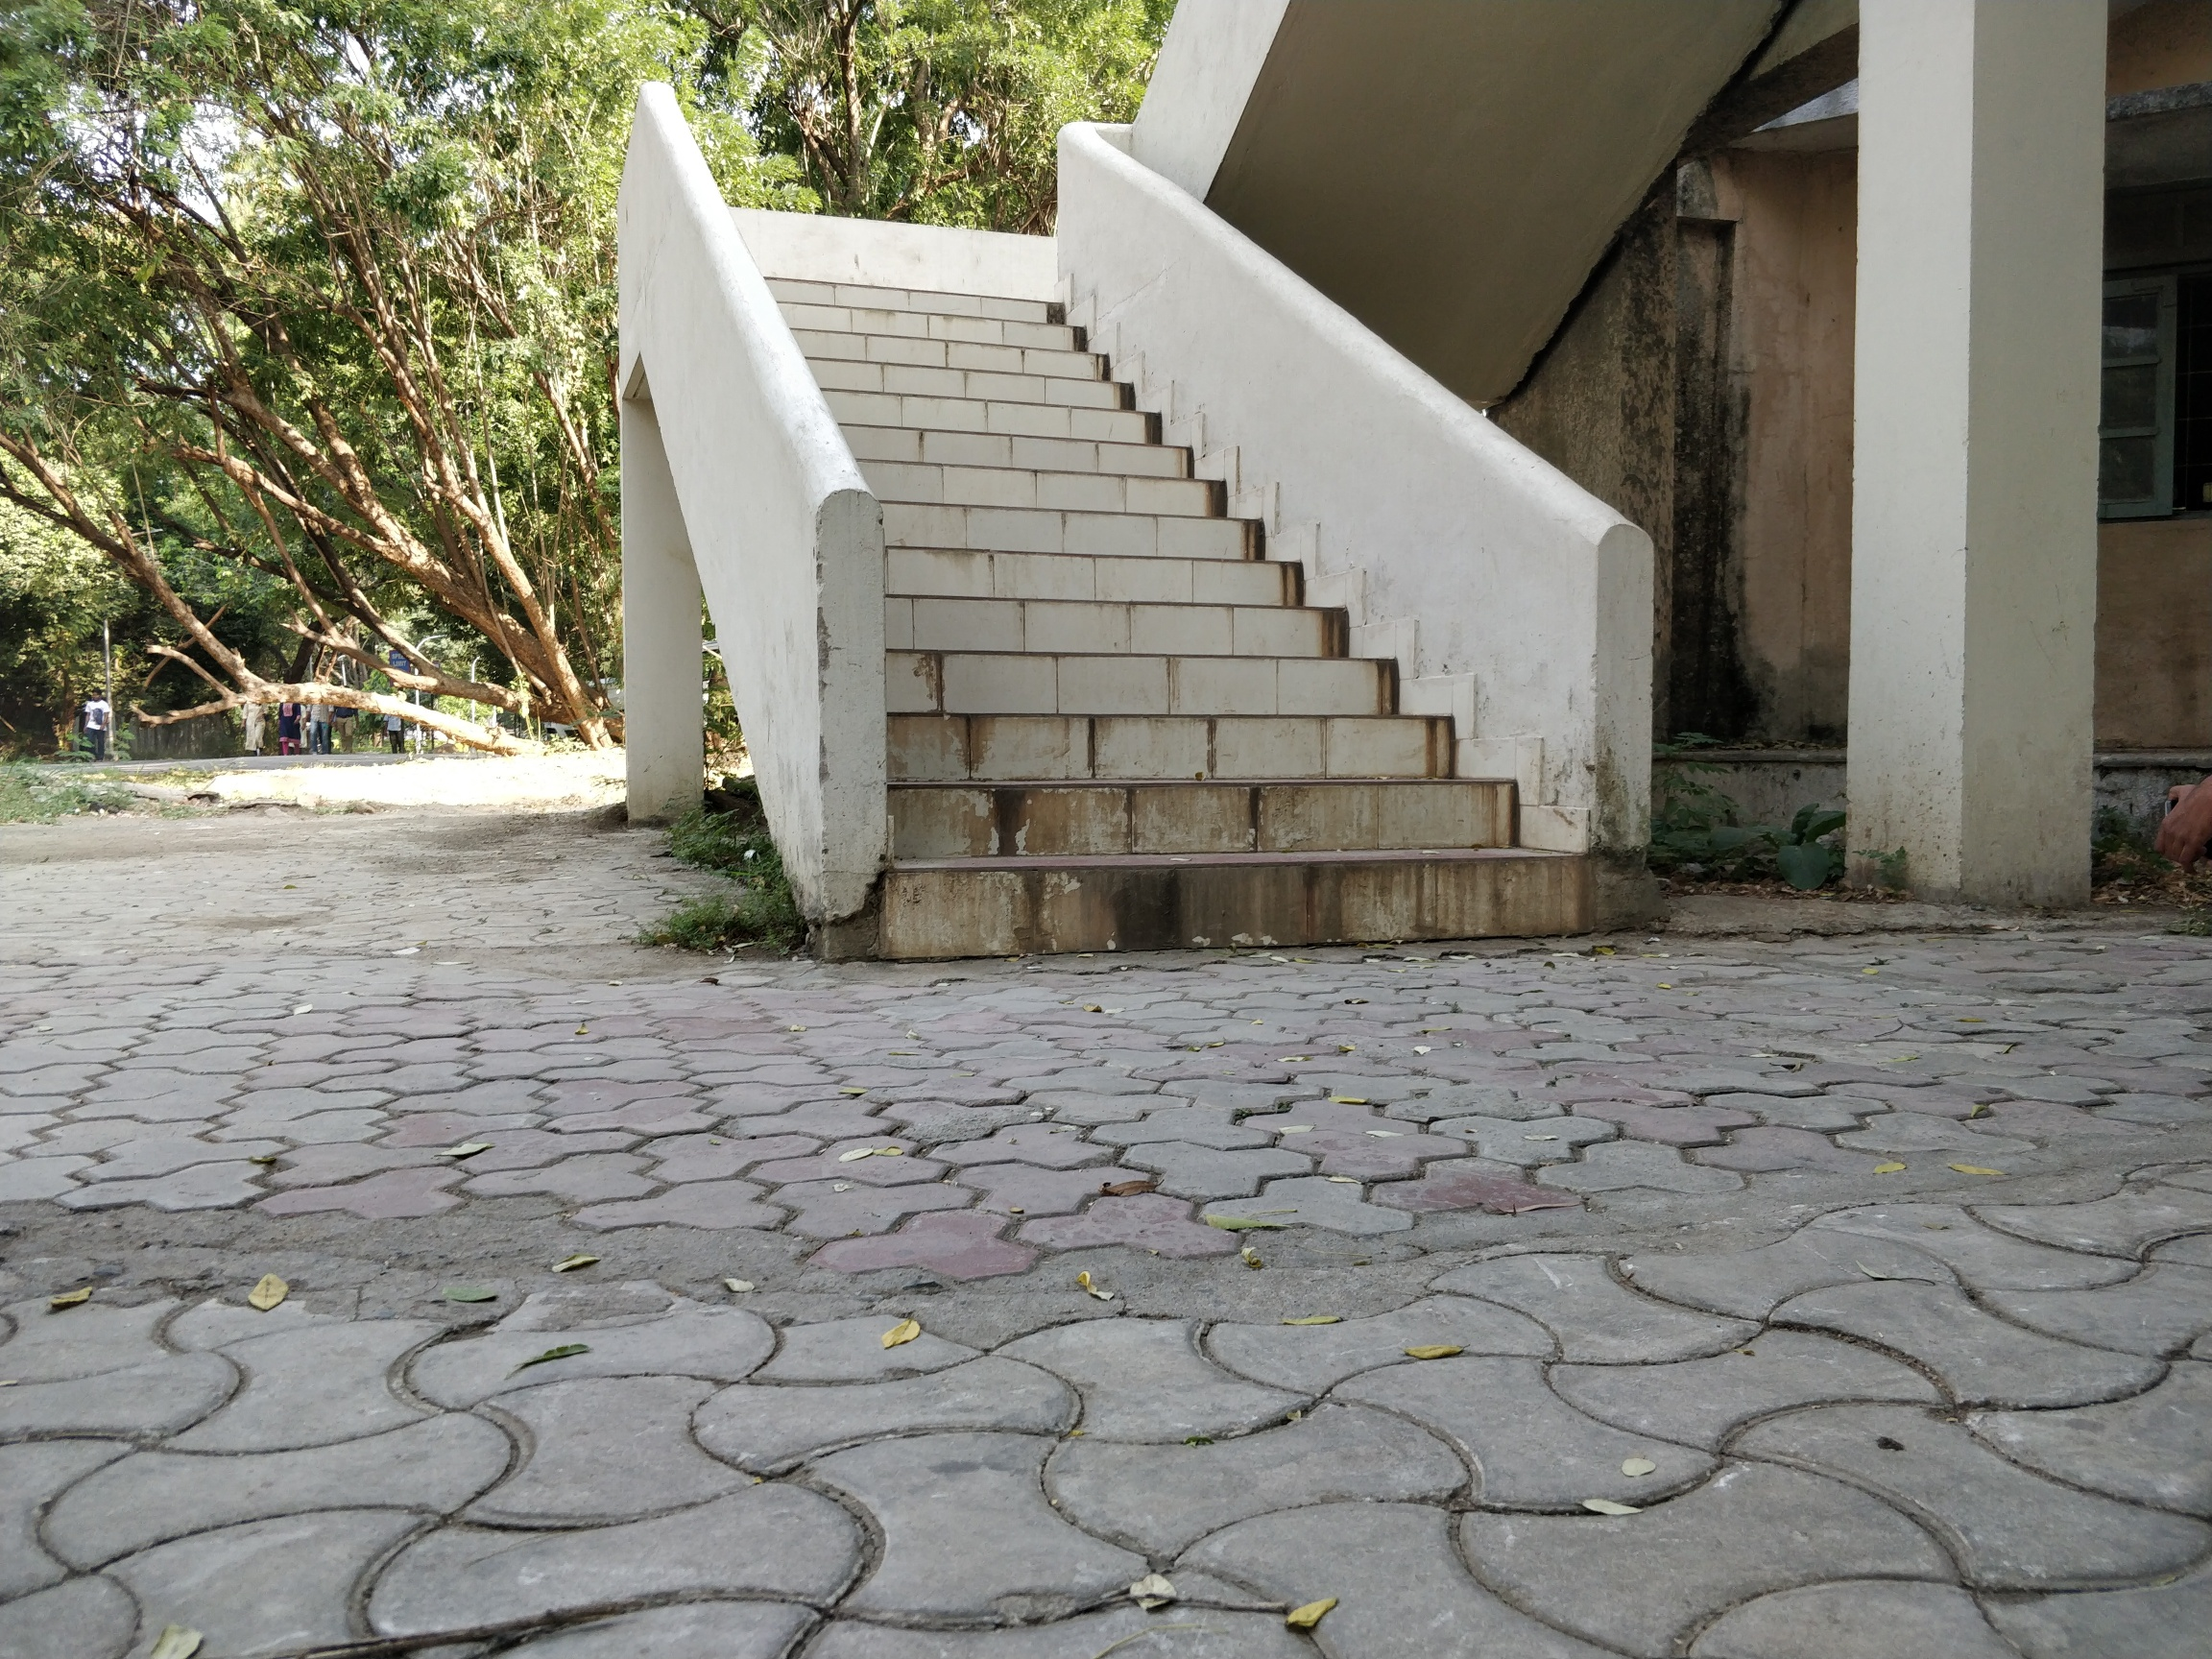stairs_up: (735, 254, 1581, 958)
